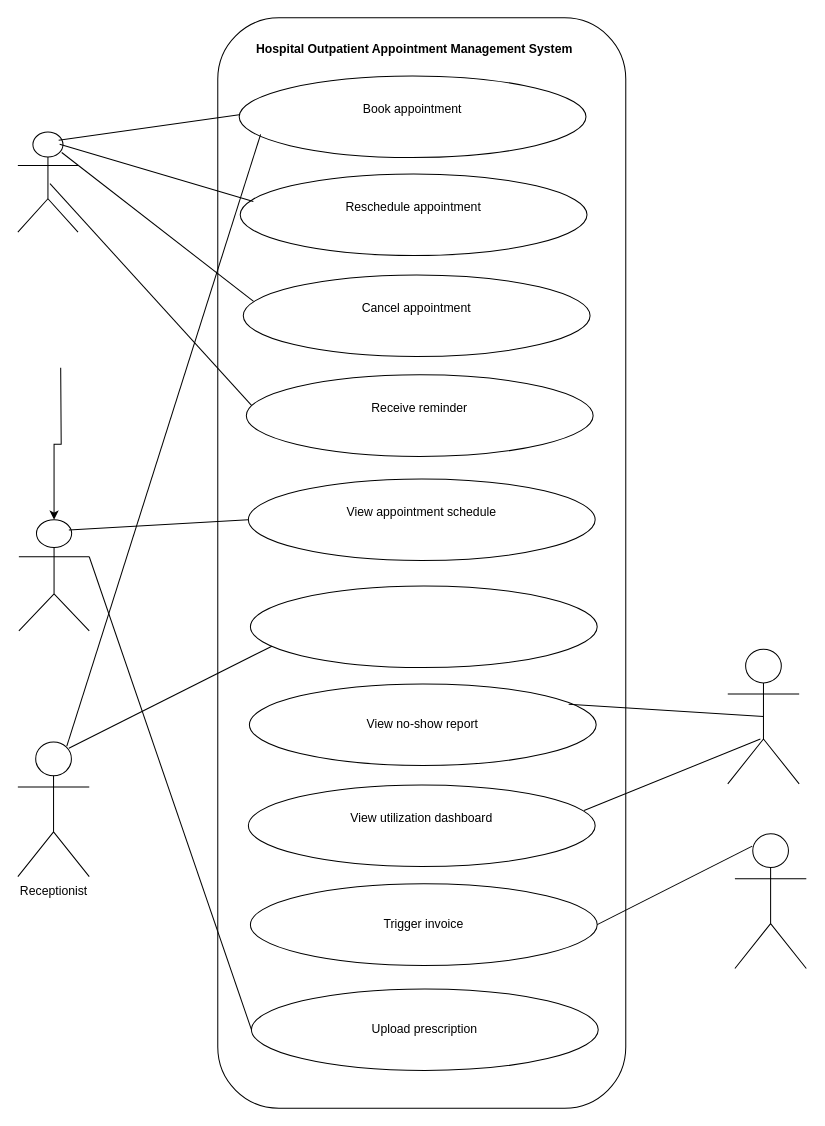
The diagram is 825 pixels wide and 1126 high, and some of its shapes have lost their labels. The centre of each missing label's shape, as x and y in pixels:
Billing system: the point at 770,900
Doctor: the point at 53,575
Hospital admin: the point at 763,716
Patient: the point at 47,181
Search patient records: the point at 423,626
